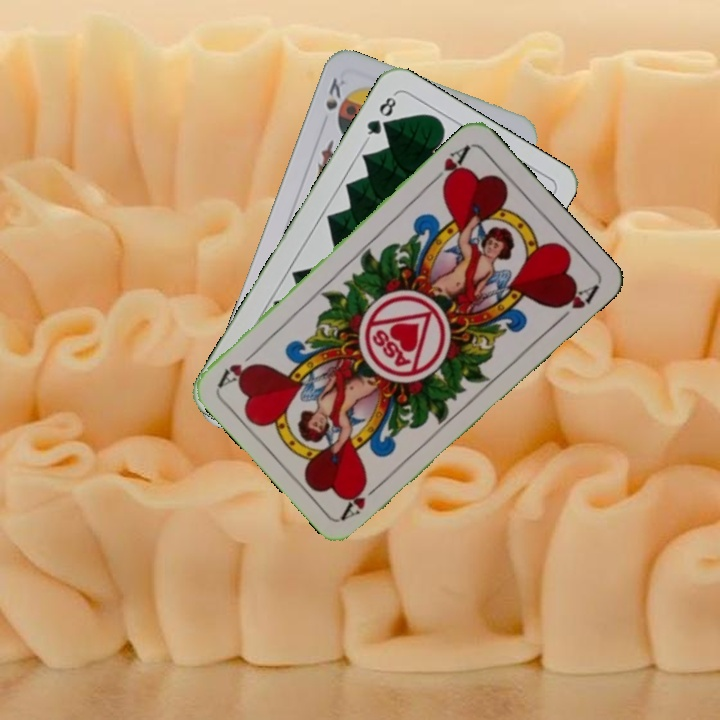G8: (362, 90, 399, 143)
HA: (426, 141, 473, 190), (338, 476, 387, 522)
SK: (321, 73, 349, 113)
